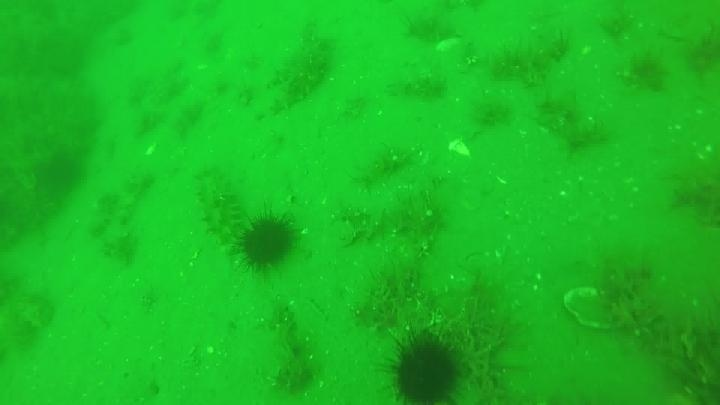echinus: (383, 331, 465, 404), (233, 210, 299, 274)
holothurian: (259, 22, 335, 117), (92, 170, 156, 265), (487, 27, 570, 82), (192, 167, 246, 250)
